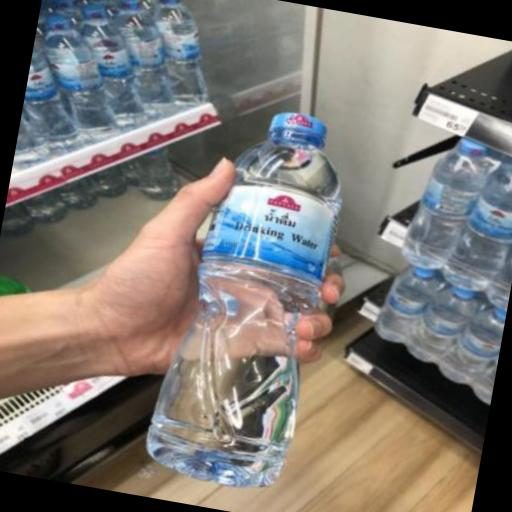Coca: (133, 84, 368, 508)
